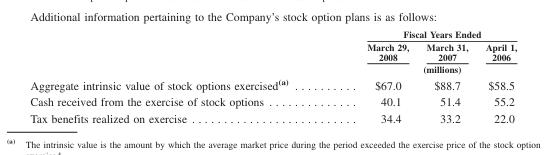table: (29, 28, 516, 124)
table column: (29, 28, 327, 124), (327, 28, 417, 124), (417, 28, 476, 124), (476, 28, 516, 124)
table column header: (29, 28, 516, 75)
table row: (29, 40, 516, 62), (29, 75, 516, 92), (29, 92, 516, 109), (29, 109, 516, 124), (29, 62, 516, 75), (29, 28, 516, 40)
table spanning cell: (327, 62, 516, 75), (327, 28, 516, 40)
